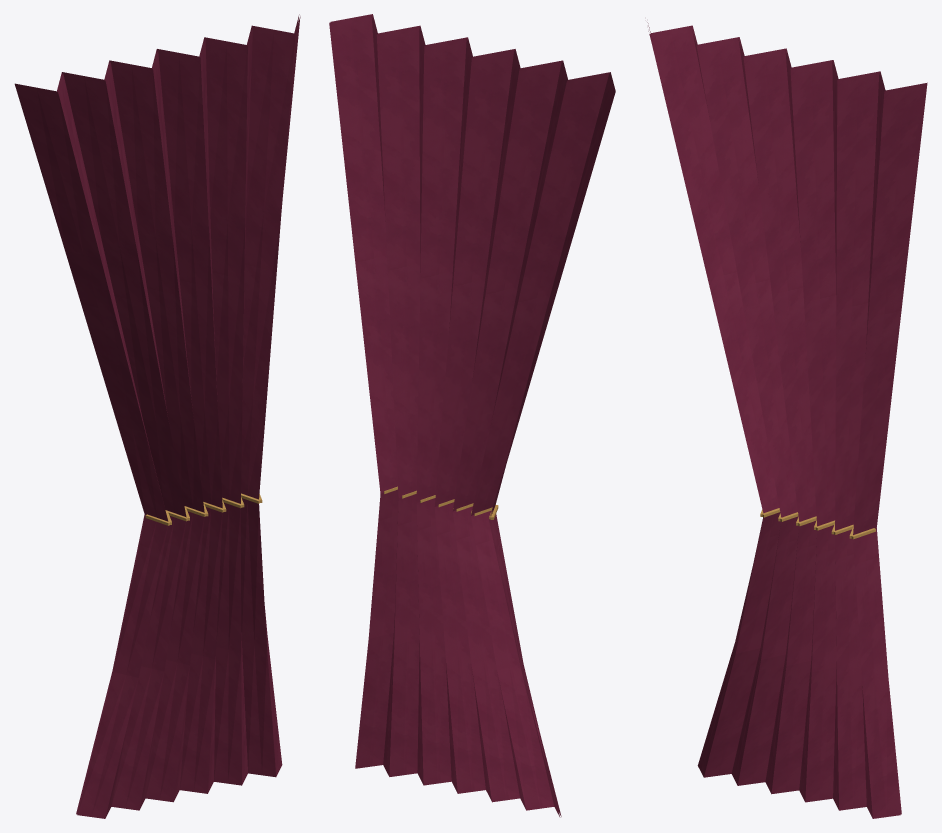
Rendered from SM_Theater_Curtain_MainL.fbx.
3 renders of one model, left to right at view 1: azimuth 30°, elevation 25°; view 2: azimuth 150°, elevation 25°; view 3: azimuth 330°, elevation 25°, orthographic.
Parts seen in each view (by area): view 1: SM_Theater_Curtain_MainL_LOD0; view 2: SM_Theater_Curtain_MainL_LOD0; view 3: SM_Theater_Curtain_MainL_LOD0.
Part boxes in pixels (box(x1,y1,x2,y2)): SM_Theater_Curtain_MainL_LOD0: box(14, 14, 300, 818); SM_Theater_Curtain_MainL_LOD0: box(329, 14, 615, 817); SM_Theater_Curtain_MainL_LOD0: box(647, 22, 927, 818).
Size of what is drawn, in the model's own units: 4.7 by 11.7 by 0.5684.
